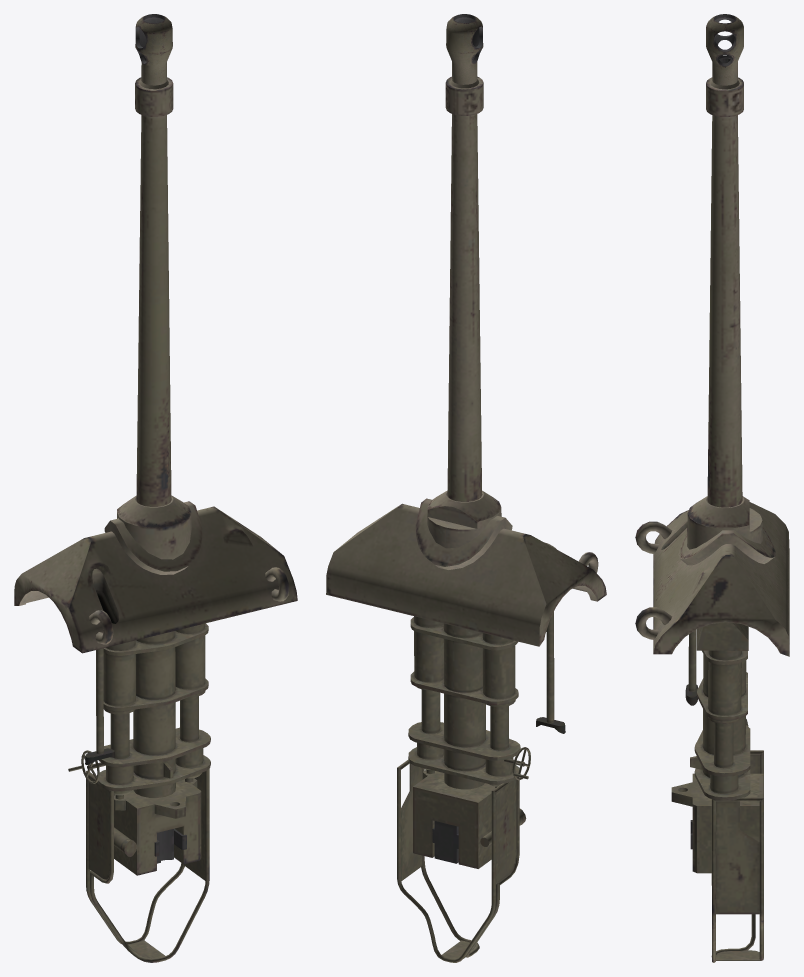
File: Gun_03.glb
3 views of the same model, side by side, from view 1: azimuth 30°, elevation 25°; view 2: azimuth 150°, elevation 25°; view 3: azimuth 270°, elevation 25° (orthographic).
Parts seen in each view (by area): view 1: set_0_group_0; view 2: set_0_group_0; view 3: set_0_group_0.
Boxes of the visible parts, x1,y1,x2,y2 form: set_0_group_0: (14, 14, 297, 962); set_0_group_0: (326, 14, 606, 962); set_0_group_0: (635, 14, 789, 962).
Size of the model in its own units: 1.18 by 4.93 by 0.7329.
Materials: 1 (1 with a texture image).
